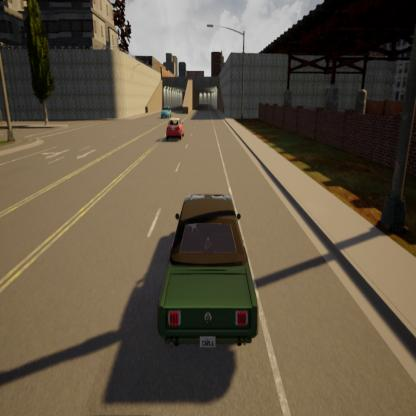Cars: (157, 192, 257, 350), (166, 115, 185, 140), (161, 106, 171, 117)
